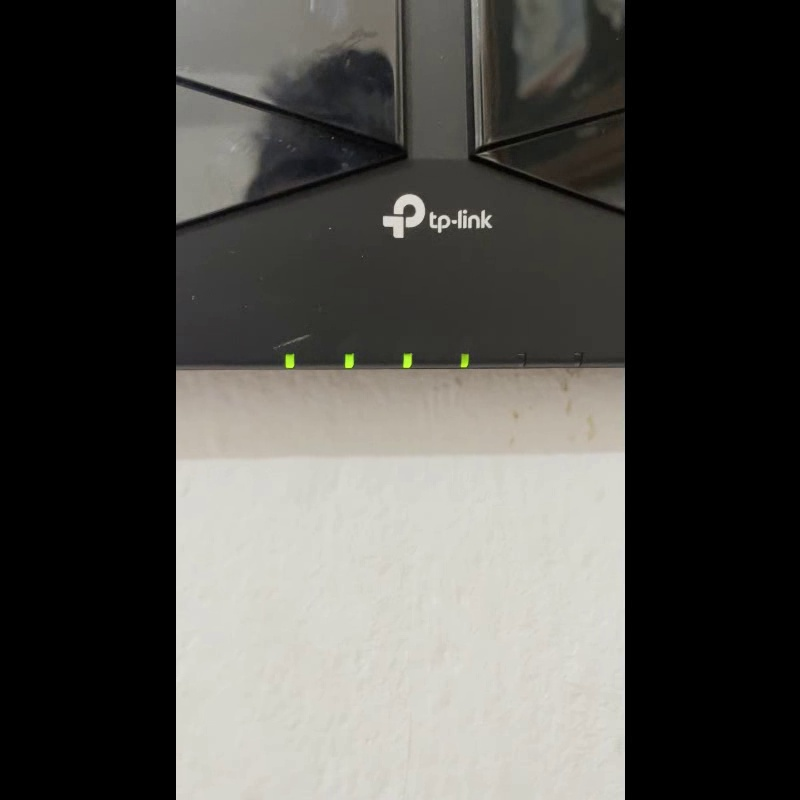off: (570, 350, 583, 367), (516, 351, 525, 367)
on_green: (284, 353, 294, 368), (402, 352, 411, 368), (344, 353, 353, 368), (460, 352, 468, 367)
